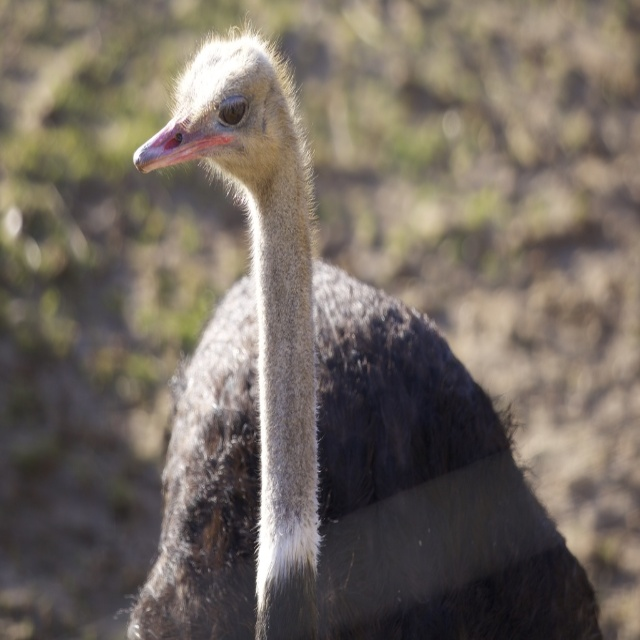Ostrich: (128, 26, 604, 639)
